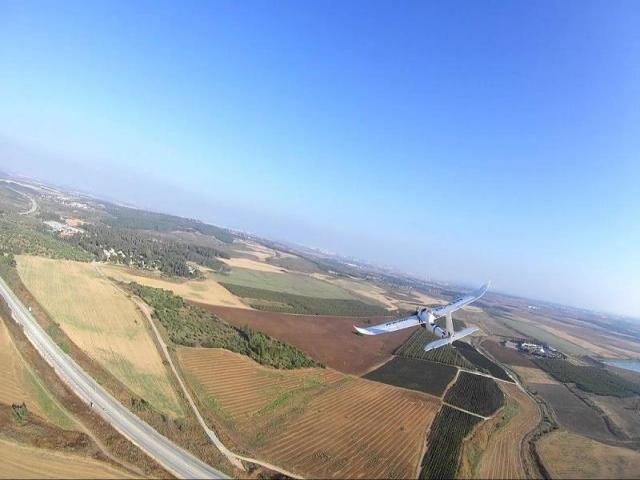hedef: (342, 273, 507, 359)
